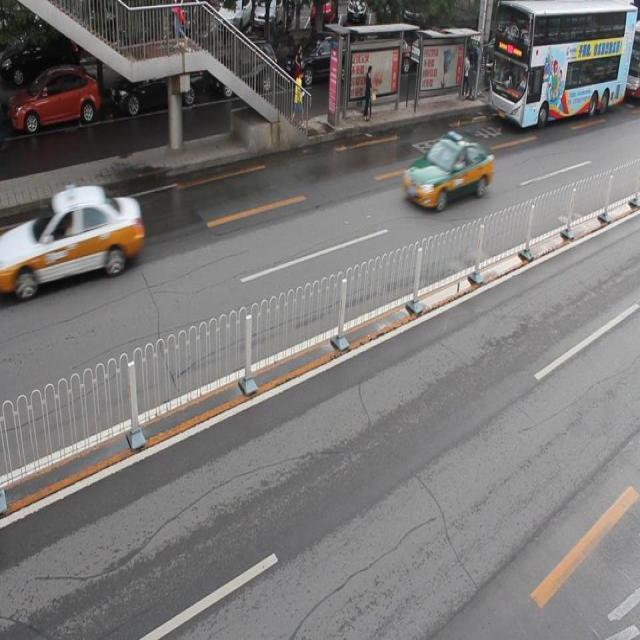car: (1, 184, 141, 296), (402, 132, 491, 210), (109, 49, 200, 115), (11, 69, 99, 134), (210, 37, 277, 100), (283, 32, 353, 88)
van: (485, 1, 632, 127)
